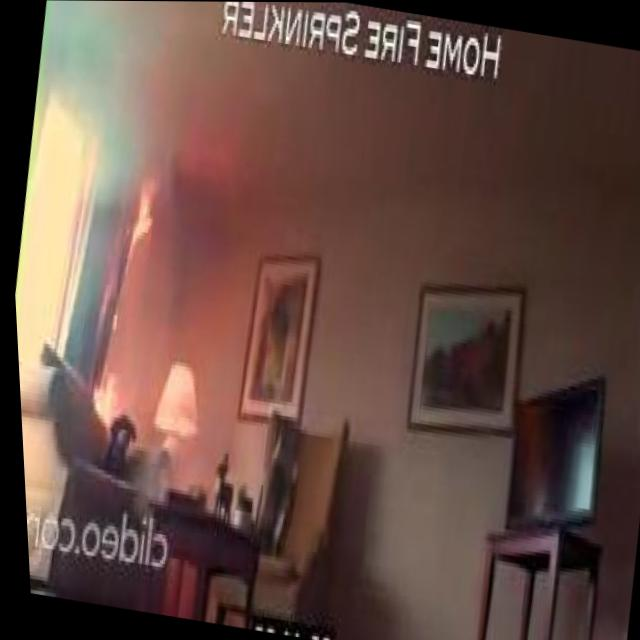fire: (109, 160, 169, 295), (77, 362, 132, 430)
